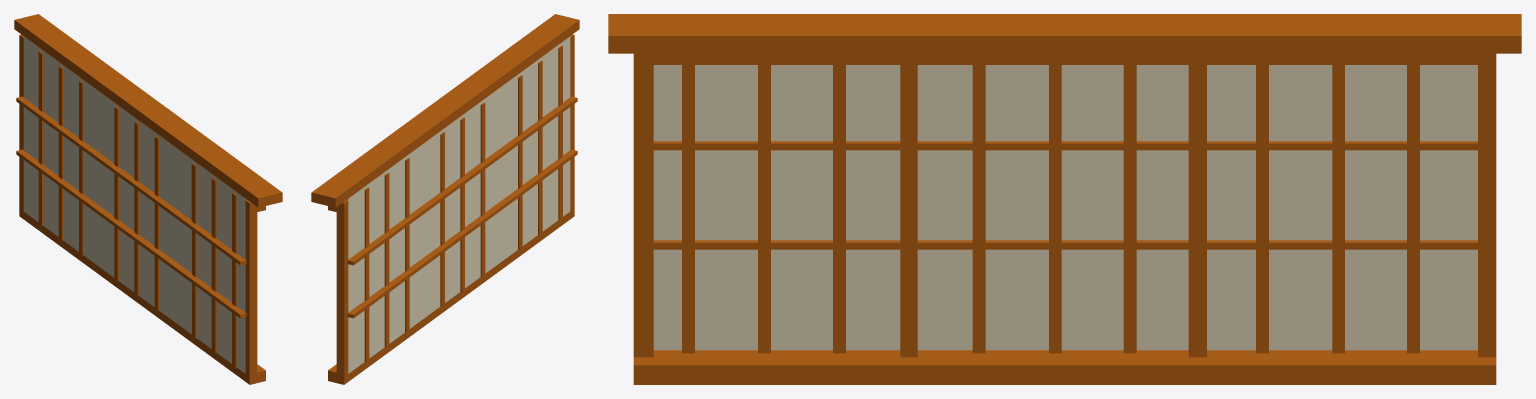
The model's file is sushi_window.fbx.
3 views of the same model, side by side, from view 1: azimuth 30°, elevation 25°; view 2: azimuth 150°, elevation 25°; view 3: azimuth 270°, elevation 25° (orthographic). The views are drawn at different scales.
Parts seen in each view (by area): view 1: 平面, Cube.004, Cube.002, Cube; view 2: 平面, Cube.004, Cube.002, Cube; view 3: 平面, Cube, Cube.004, Cube.002.
Boxes of the visible parts, left/top/right/bottom form: 平面: left=23, top=36, right=245, bottom=373; Cube.004: left=16, top=51, right=246, bottom=367; Cube.002: left=14, top=14, right=282, bottom=207; Cube: left=19, top=34, right=265, bottom=384; 平面: left=348, top=36, right=570, bottom=373; Cube.004: left=347, top=46, right=577, bottom=361; Cube.002: left=311, top=14, right=579, bottom=207; Cube: left=328, top=34, right=574, bottom=384; 平面: left=653, top=65, right=1477, bottom=350; Cube: left=633, top=53, right=1496, bottom=384; Cube.004: left=653, top=65, right=1477, bottom=353; Cube.002: left=608, top=14, right=1521, bottom=53.
Bounding box in the file's own units: 62.52 × 354 × 819.
